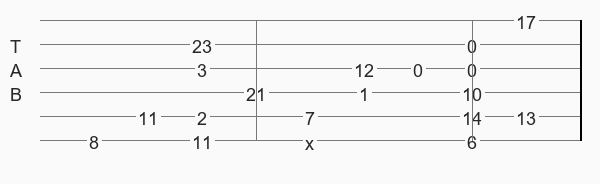0: (413, 60, 427, 77), (467, 60, 481, 77), (467, 36, 481, 53)
1: (359, 84, 373, 101)
10: (462, 84, 486, 101)
11: (138, 108, 162, 125), (192, 132, 216, 149)
12: (354, 60, 378, 77)
13: (516, 108, 540, 125)
14: (462, 108, 486, 125)
17: (516, 12, 540, 29)
2: (197, 108, 211, 125)
21: (246, 84, 270, 101)
23: (192, 36, 216, 53)
3: (197, 60, 211, 77)
6: (467, 132, 481, 149)
7: (305, 108, 319, 125)
8: (89, 132, 103, 149)
x: (305, 133, 318, 147)
